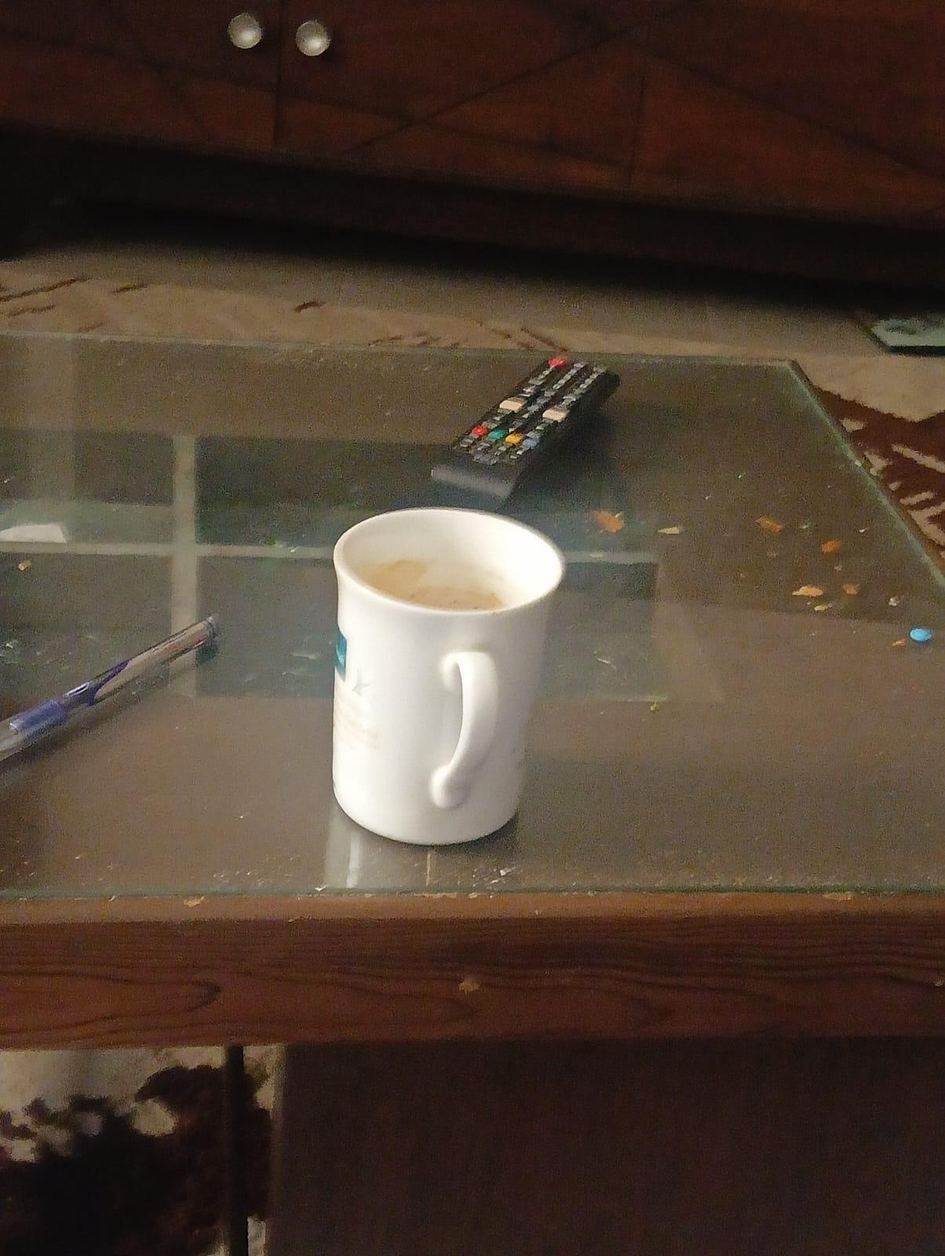cup: (333, 509, 564, 844)
